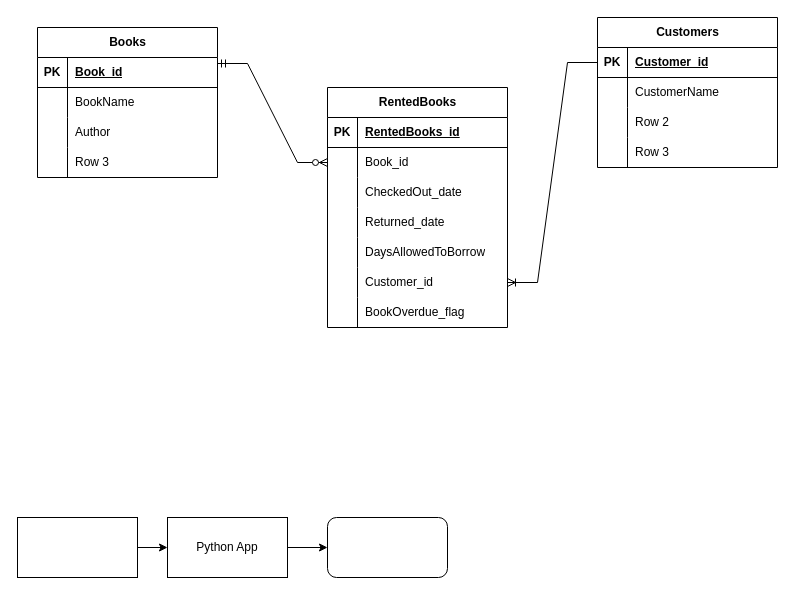
This 795x595 diagram has some shape labels left out. Each missing label, with the centre of its shape:
"CSV" belongs at [77,547].
"SQL Server" belongs at [387,547].
